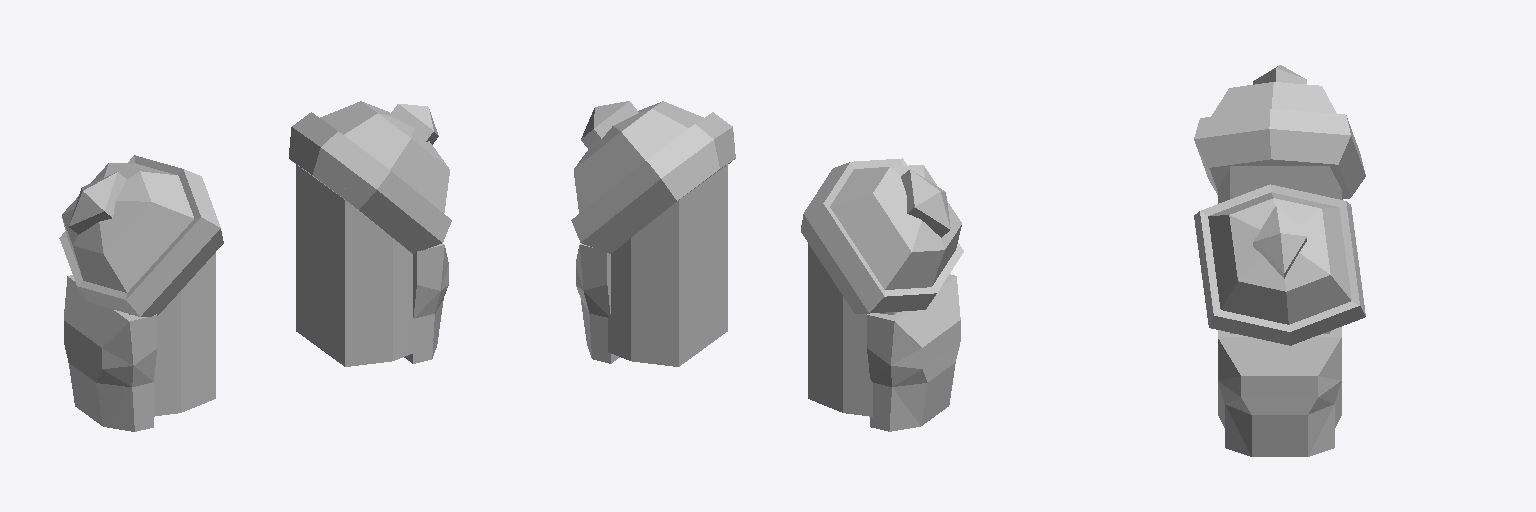
File: mps_arms.obj
The picture shows the model from 3 angles: view 1: azimuth 30°, elevation 25°; view 2: azimuth 150°, elevation 25°; view 3: azimuth 270°, elevation 25°; orthographic projection.
Parts seen in each view (by area): view 1: arms2, arms3, crystal_shoulder_2, crystal_shoulder_1; view 2: arms2, arms3, crystal_shoulder_2, crystal_shoulder_1; view 3: arms2, arms3, crystal_shoulder_1, crystal_shoulder_2.
Part boxes in pixels (x1,y1,x2,y2): arms2: (289, 101, 451, 366); arms3: (59, 155, 223, 431); crystal_shoulder_2: (62, 163, 150, 253); crystal_shoulder_1: (363, 102, 448, 167); arms2: (571, 101, 735, 366); arms3: (801, 158, 963, 431); crystal_shoulder_2: (873, 165, 961, 251); crystal_shoulder_1: (574, 101, 662, 168); arms2: (1194, 184, 1365, 456); arms3: (1194, 82, 1365, 203); crystal_shoulder_1: (1229, 198, 1330, 291); crystal_shoulder_2: (1253, 65, 1306, 84).
Size of the model in its own units: 21.96 by 13.56 by 8.85.